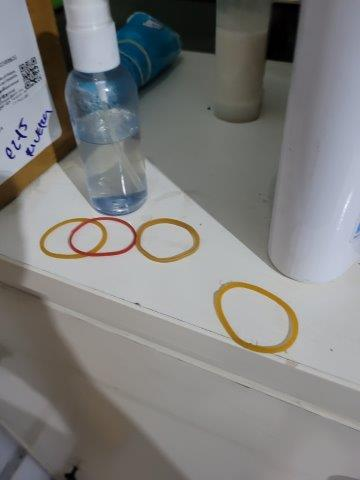karet: (215, 283, 298, 353), (40, 219, 108, 259), (136, 220, 199, 262), (70, 216, 136, 254)
